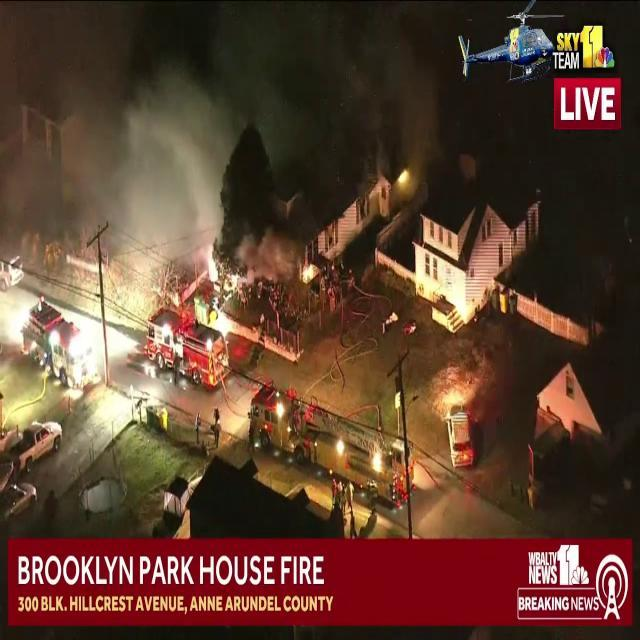Smoke: (0, 0, 221, 284)
